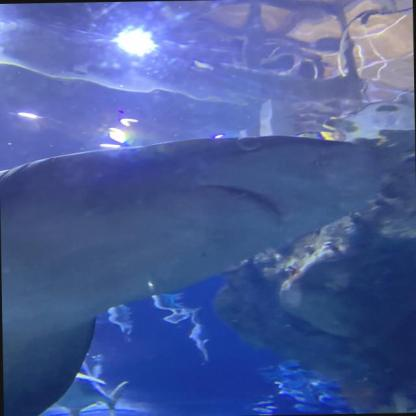fish: (54, 370, 131, 416)
shark: (0, 132, 389, 415)
